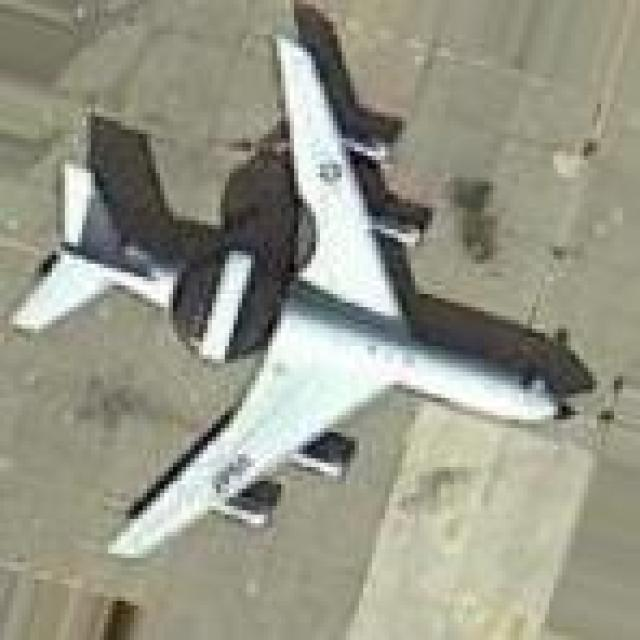E-3_TopDown: (5, 2, 590, 567)
